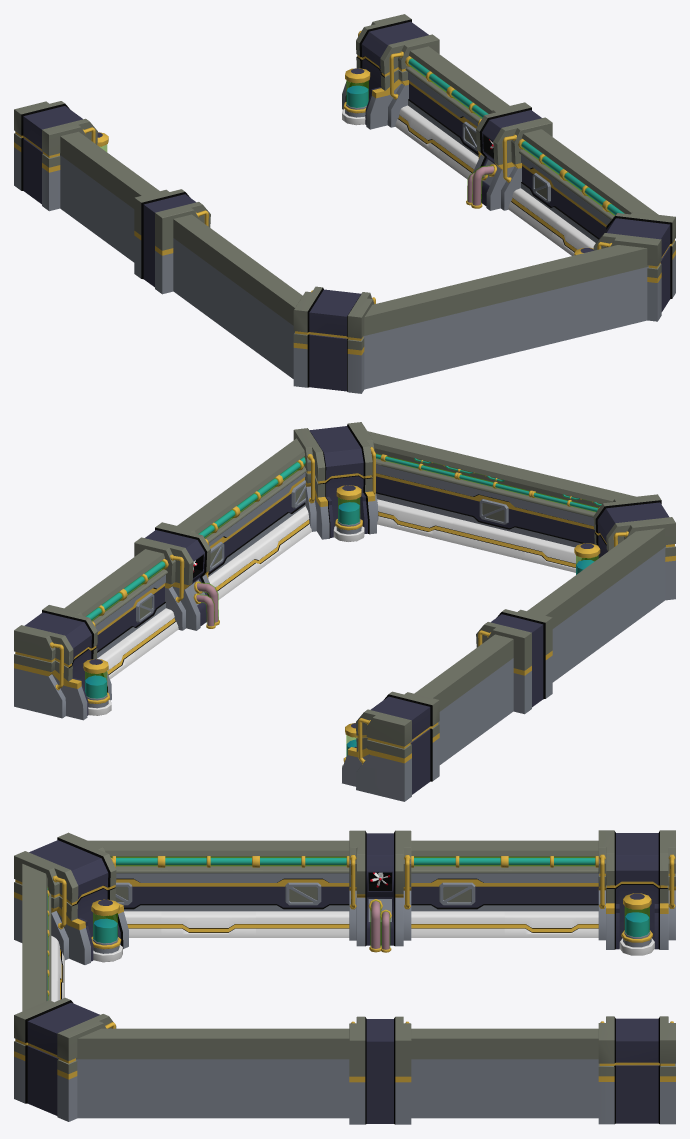
File: Bonus_Level.fbx
3 views of the same model, one above another, from view 1: azimuth 30°, elevation 25°; view 2: azimuth 150°, elevation 25°; view 3: azimuth 270°, elevation 25° (orthographic). The views are drawn at different scales.
Parts seen in each view (by area): view 1: Base (×21), Bottle, Pipe1; view 2: Base (×20), Bottle (×2), Cage; view 3: Base (×19), Pipe1 (×6), Bottle (×2), Cage (×2).
Boxes of the visible parts, x1=… form: Base (×21): x1=14, y1=14, x2=675, y2=393; Bottle: x1=342, y1=68, x2=370, y2=125; Pipe1: x1=471, y1=164, x2=496, y2=208; Base (×20): x1=14, y1=422, x2=675, y2=801; Bottle (×2): x1=83, y1=485, x2=364, y2=715; Cage: x1=479, y1=499, x2=508, y2=524; Base (×19): x1=14, y1=830, x2=675, y2=1124; Pipe1 (×6): x1=111, y1=856, x2=598, y2=952; Bottle (×2): x1=91, y1=893, x2=654, y2=962; Cage (×2): x1=285, y1=882, x2=475, y2=905.
Size of the model in its own units: 385 by 73.12 by 513.
